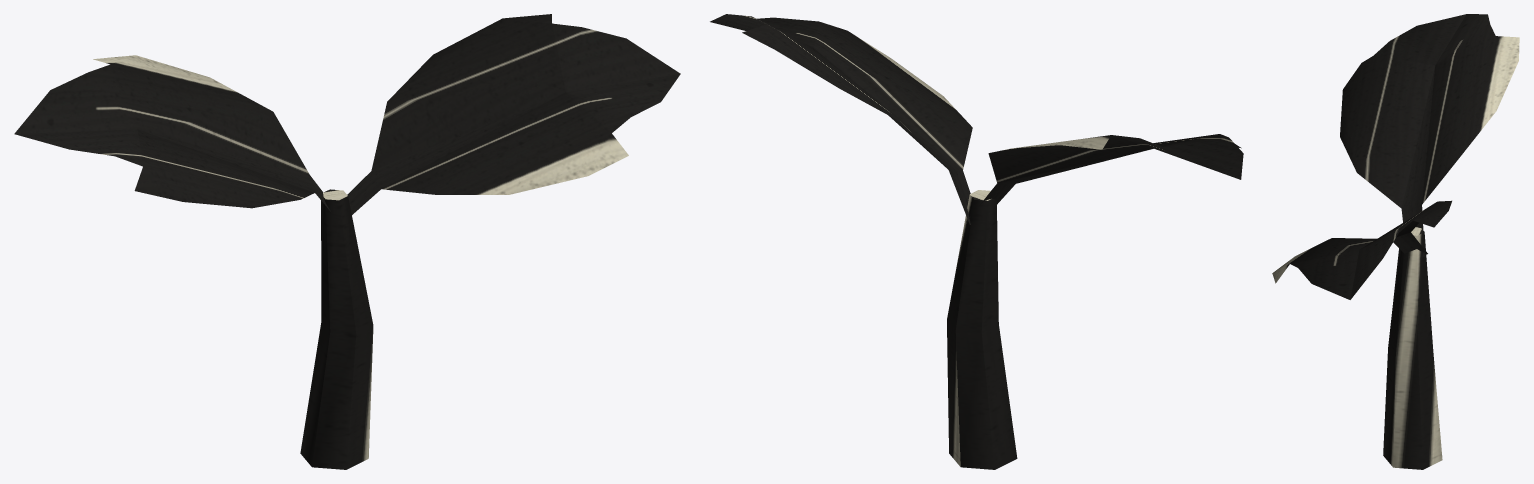
3 renders of one model, left to right at view 1: azimuth 30°, elevation 25°; view 2: azimuth 150°, elevation 25°; view 3: azimuth 270°, elevation 25°, orthographic. The views are drawn at different scales.
Visible parts, largest first — view 1: SM_Tomato_Lv1; view 2: SM_Tomato_Lv1; view 3: SM_Tomato_Lv1.
Part boxes in pixels (<box>): SM_Tomato_Lv1: <box>14,14,680,469</box>; SM_Tomato_Lv1: <box>710,14,1243,469</box>; SM_Tomato_Lv1: <box>1272,14,1519,469</box>.
Size of the model in its own units: 0.2438 by 0.1555 by 0.1002.
